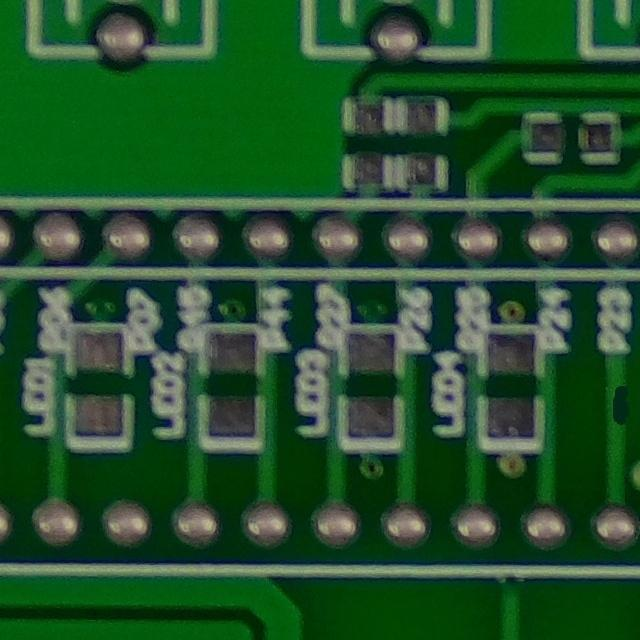mouse_bite: (586, 371, 640, 437)
